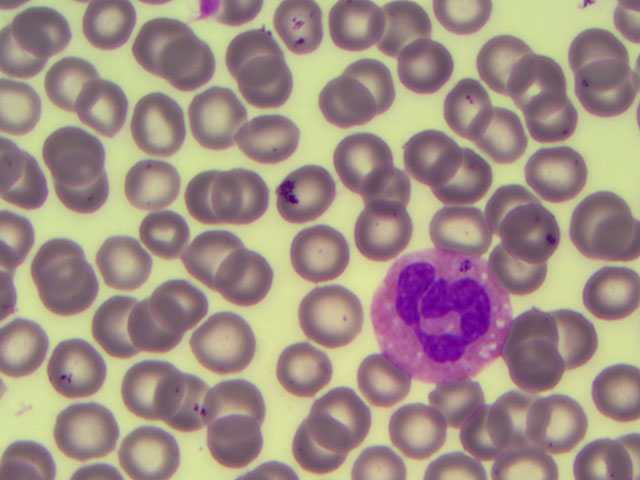Platelets: (196, 1, 217, 23)
RBC: (585, 427, 640, 480), (16, 4, 71, 56), (45, 60, 100, 112), (76, 80, 131, 132), (43, 123, 98, 175), (57, 169, 112, 221), (124, 159, 179, 211), (128, 96, 183, 148), (171, 169, 226, 221), (226, 167, 281, 219), (238, 111, 293, 163), (185, 92, 240, 144), (166, 40, 221, 92), (136, 16, 191, 68), (236, 62, 291, 114), (227, 20, 282, 72), (267, 3, 322, 55), (400, 38, 455, 90), (344, 55, 399, 107), (314, 78, 369, 130), (335, 132, 390, 184), (362, 162, 417, 214), (360, 200, 415, 252), (292, 230, 347, 282), (287, 166, 342, 218), (224, 248, 279, 300), (191, 228, 246, 280), (128, 206, 183, 258), (100, 234, 155, 286), (35, 268, 90, 320), (31, 235, 86, 287), (90, 299, 145, 351), (128, 306, 183, 358), (161, 279, 216, 331), (200, 314, 255, 366), (209, 374, 264, 426), (209, 409, 264, 461), (159, 375, 214, 427), (129, 362, 184, 414), (63, 407, 118, 459), (124, 426, 179, 478), (53, 347, 108, 399), (3, 322, 58, 374), (279, 344, 334, 396), (304, 287, 359, 339), (439, 201, 494, 253), (433, 155, 488, 207), (409, 135, 464, 187), (434, 88, 489, 140), (464, 109, 519, 161), (524, 95, 579, 147), (515, 63, 570, 115), (475, 38, 530, 90), (575, 30, 630, 82), (576, 58, 631, 110), (572, 192, 627, 244), (530, 140, 585, 192), (486, 176, 541, 228), (499, 198, 554, 250), (498, 245, 553, 297), (502, 305, 557, 357), (539, 304, 594, 356), (521, 350, 576, 402), (532, 406, 587, 458), (585, 363, 640, 415), (495, 394, 550, 446), (459, 403, 514, 455), (426, 376, 481, 428), (387, 404, 442, 456), (354, 353, 409, 405), (316, 389, 371, 441), (294, 415, 349, 467), (1, 428, 55, 480), (81, 1, 136, 52), (327, 1, 382, 52), (363, 1, 418, 52)
WBC: (374, 250, 502, 383)
